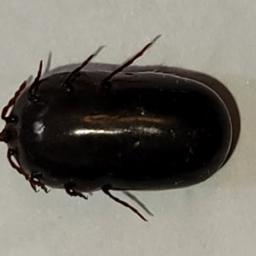Rhipicephalus sanguineus: (1, 40, 233, 222)
